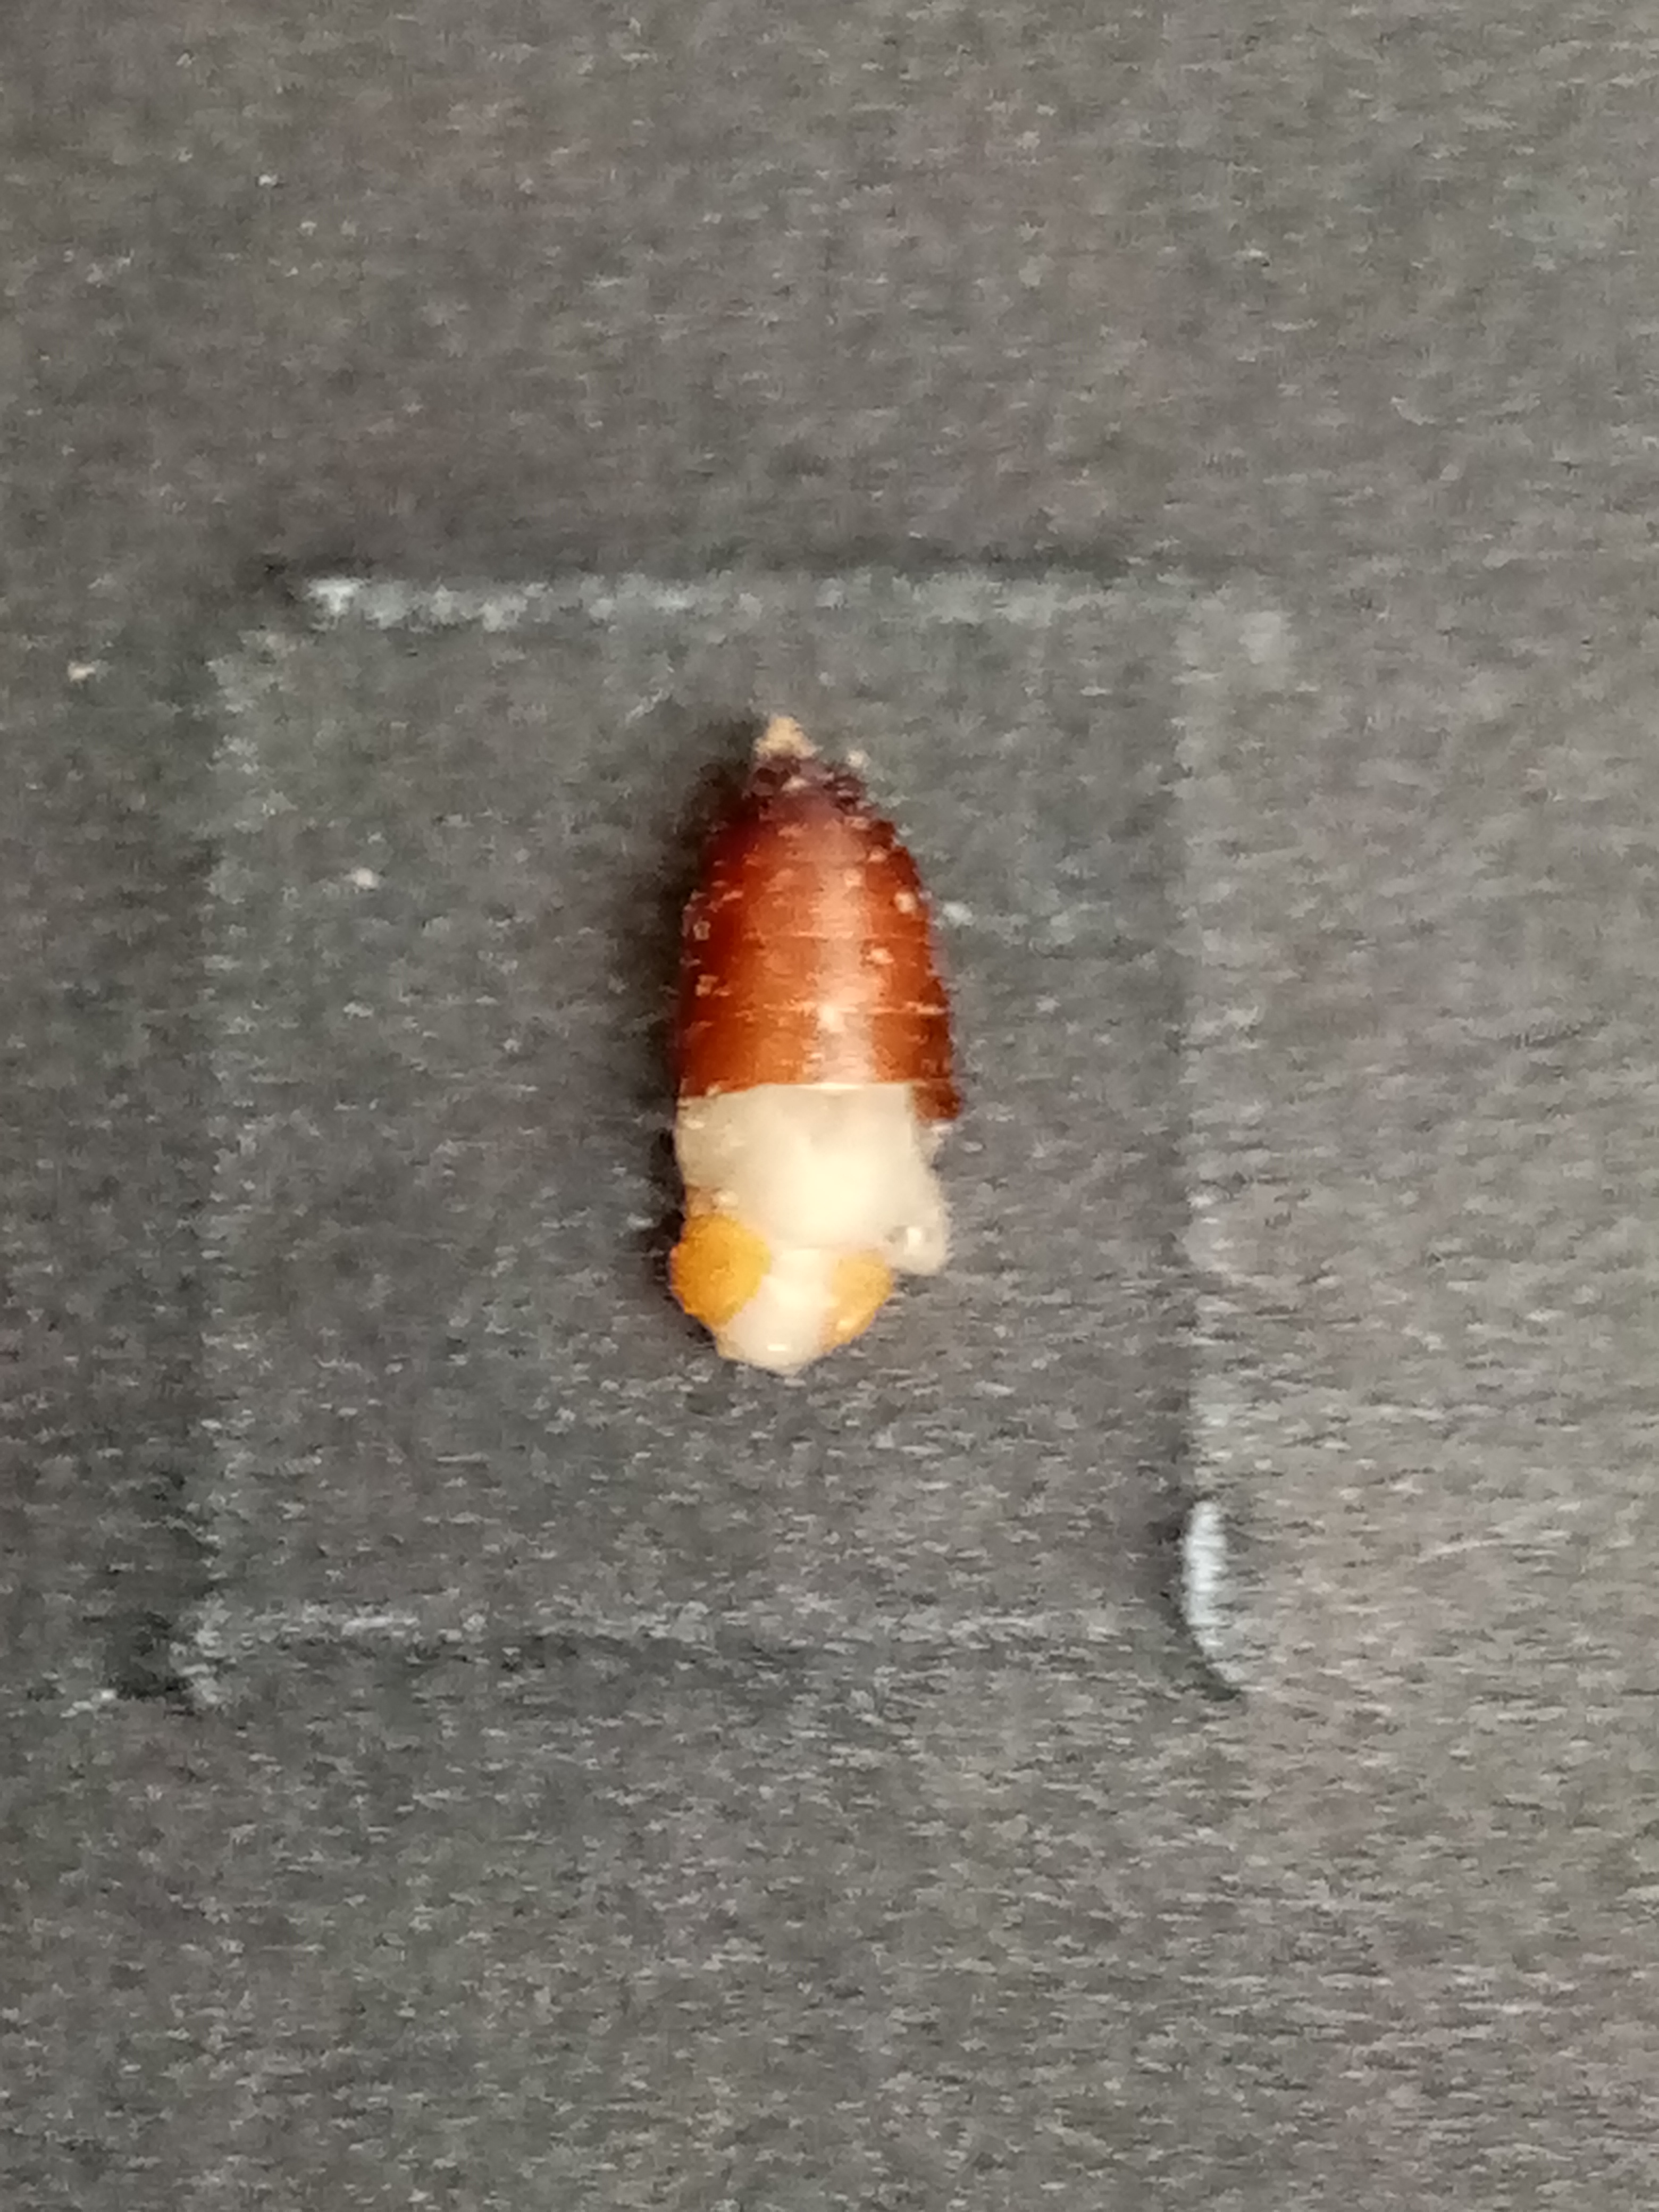pupa: (662, 1165, 941, 1385)
